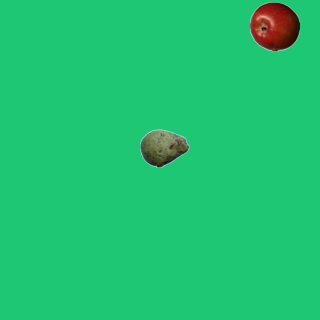Apple Braeburn: (249, 1, 299, 51)
Pear Stone: (139, 123, 189, 173)
